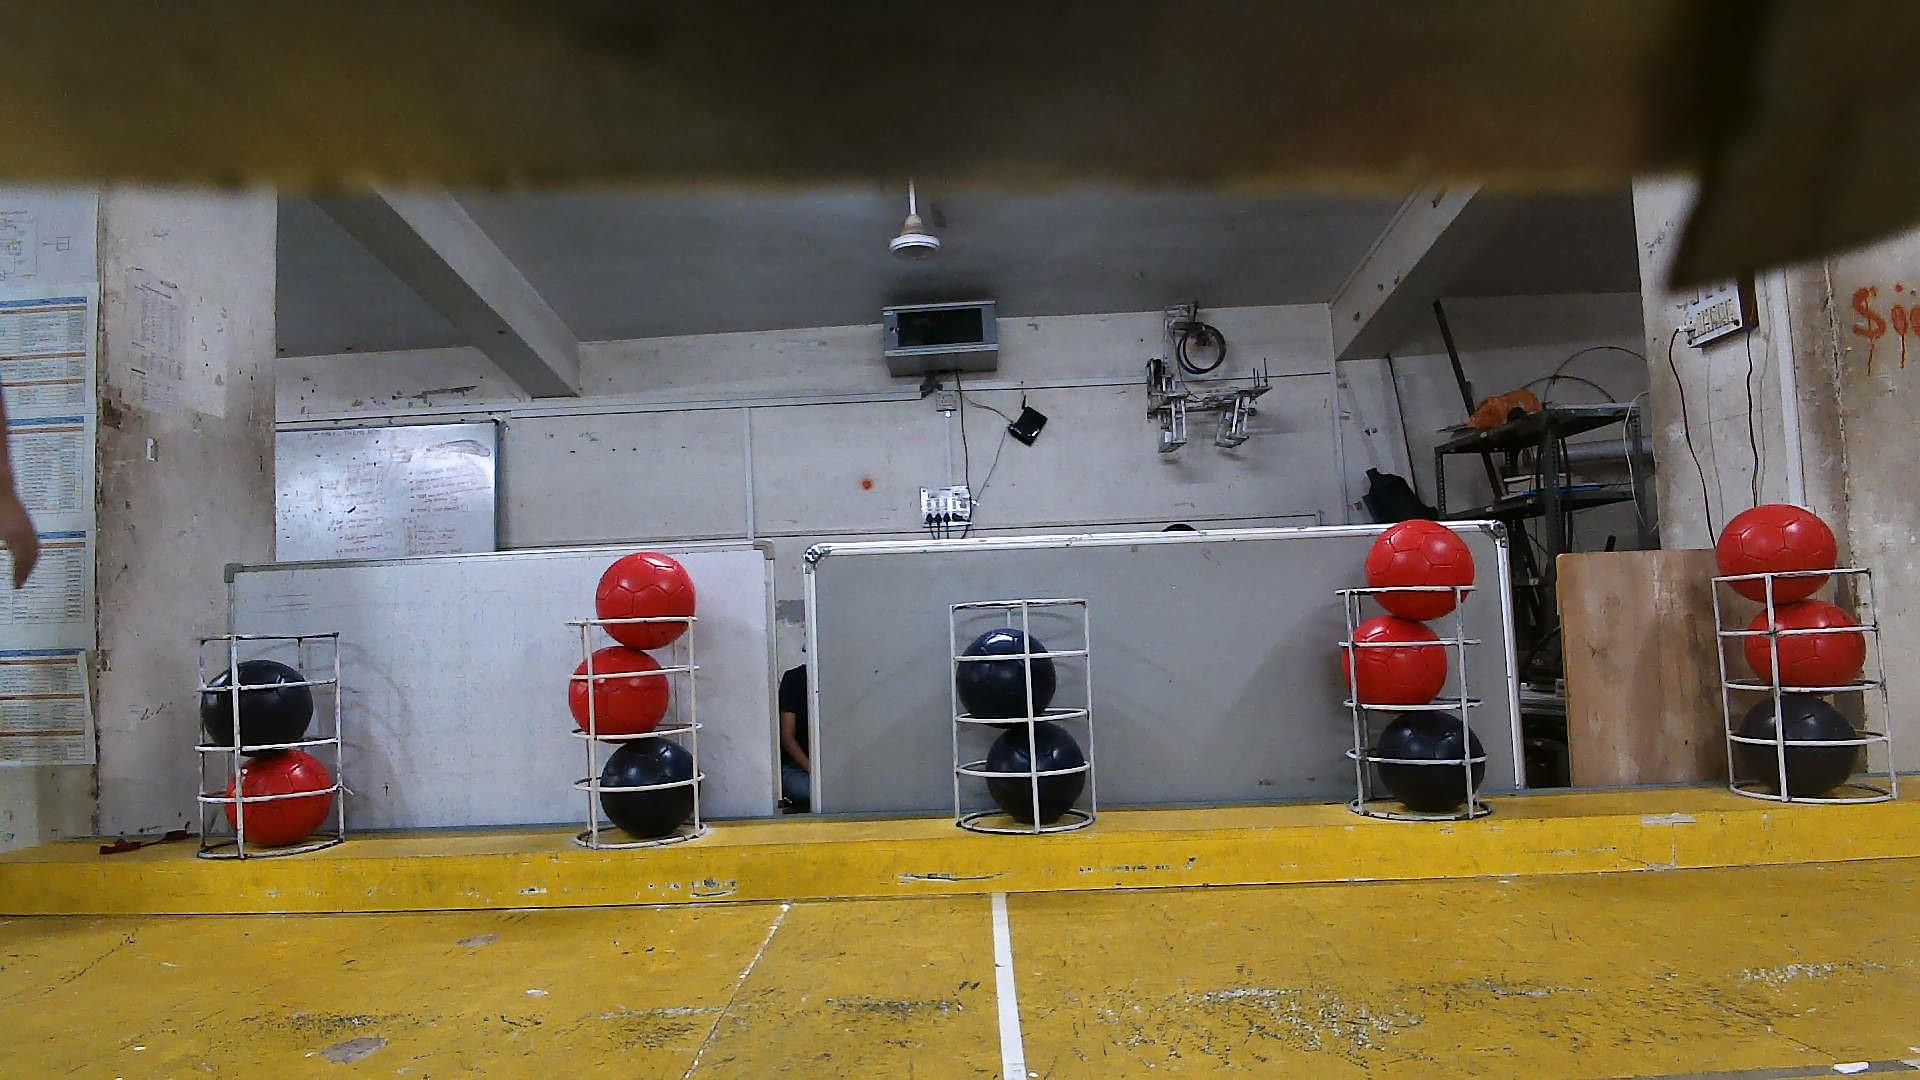dhoka: (1736, 694, 1860, 799), (1376, 709, 1485, 814), (986, 720, 1088, 825), (199, 660, 315, 746), (956, 626, 1058, 720), (600, 739, 694, 840)
laale: (1718, 502, 1838, 608), (1365, 518, 1474, 622), (1744, 600, 1868, 690), (225, 750, 334, 848), (596, 551, 698, 649), (1342, 615, 1448, 705), (570, 645, 671, 735)
